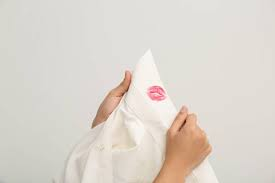kimchi: (143, 84, 166, 101)
